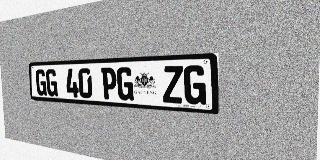0: (78, 68, 92, 98)
4: (65, 68, 79, 98)
G: (184, 65, 206, 105), (117, 67, 134, 101), (35, 69, 47, 96), (46, 69, 58, 96)
P: (101, 67, 117, 100)
Z: (162, 66, 183, 104)
